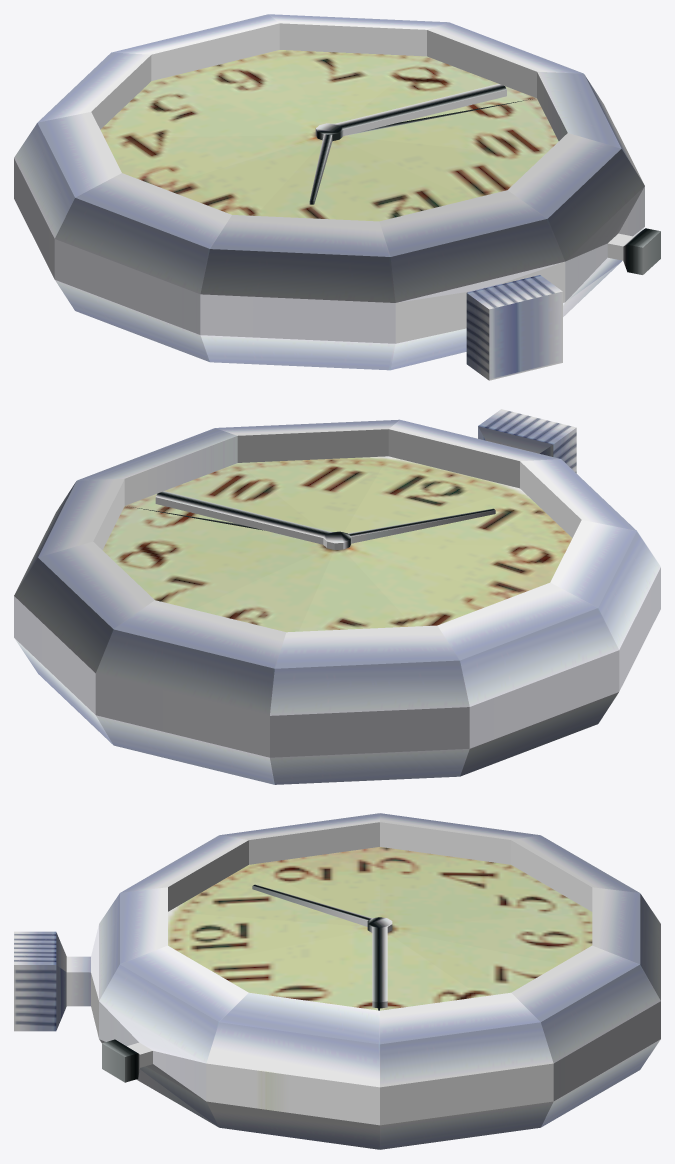
File: TIMETRIAL.ICO.obj
3 renders of one model, top to bottom at view 1: azimuth 30°, elevation 25°; view 2: azimuth 150°, elevation 25°; view 3: azimuth 270°, elevation 25°, orthographic. The views are drawn at different scales.
Size of the model in its own units: 3.02 by 0.665 by 3.31.
1 material, 1 textured.
